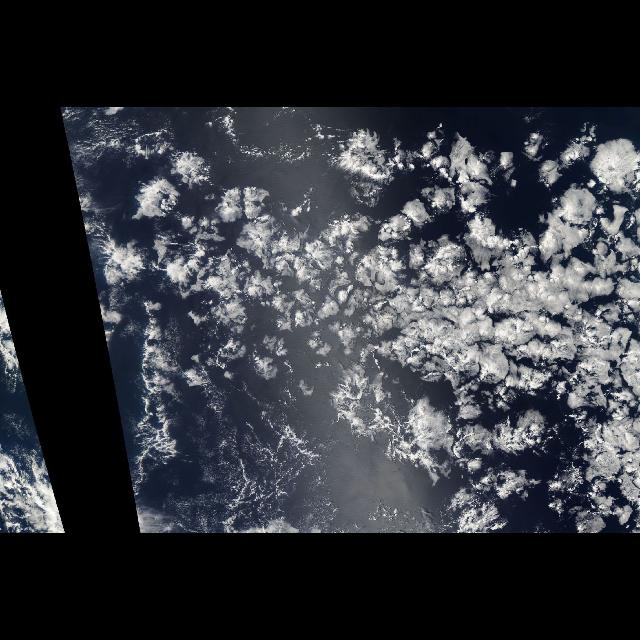Flower: (75, 112, 638, 486)
